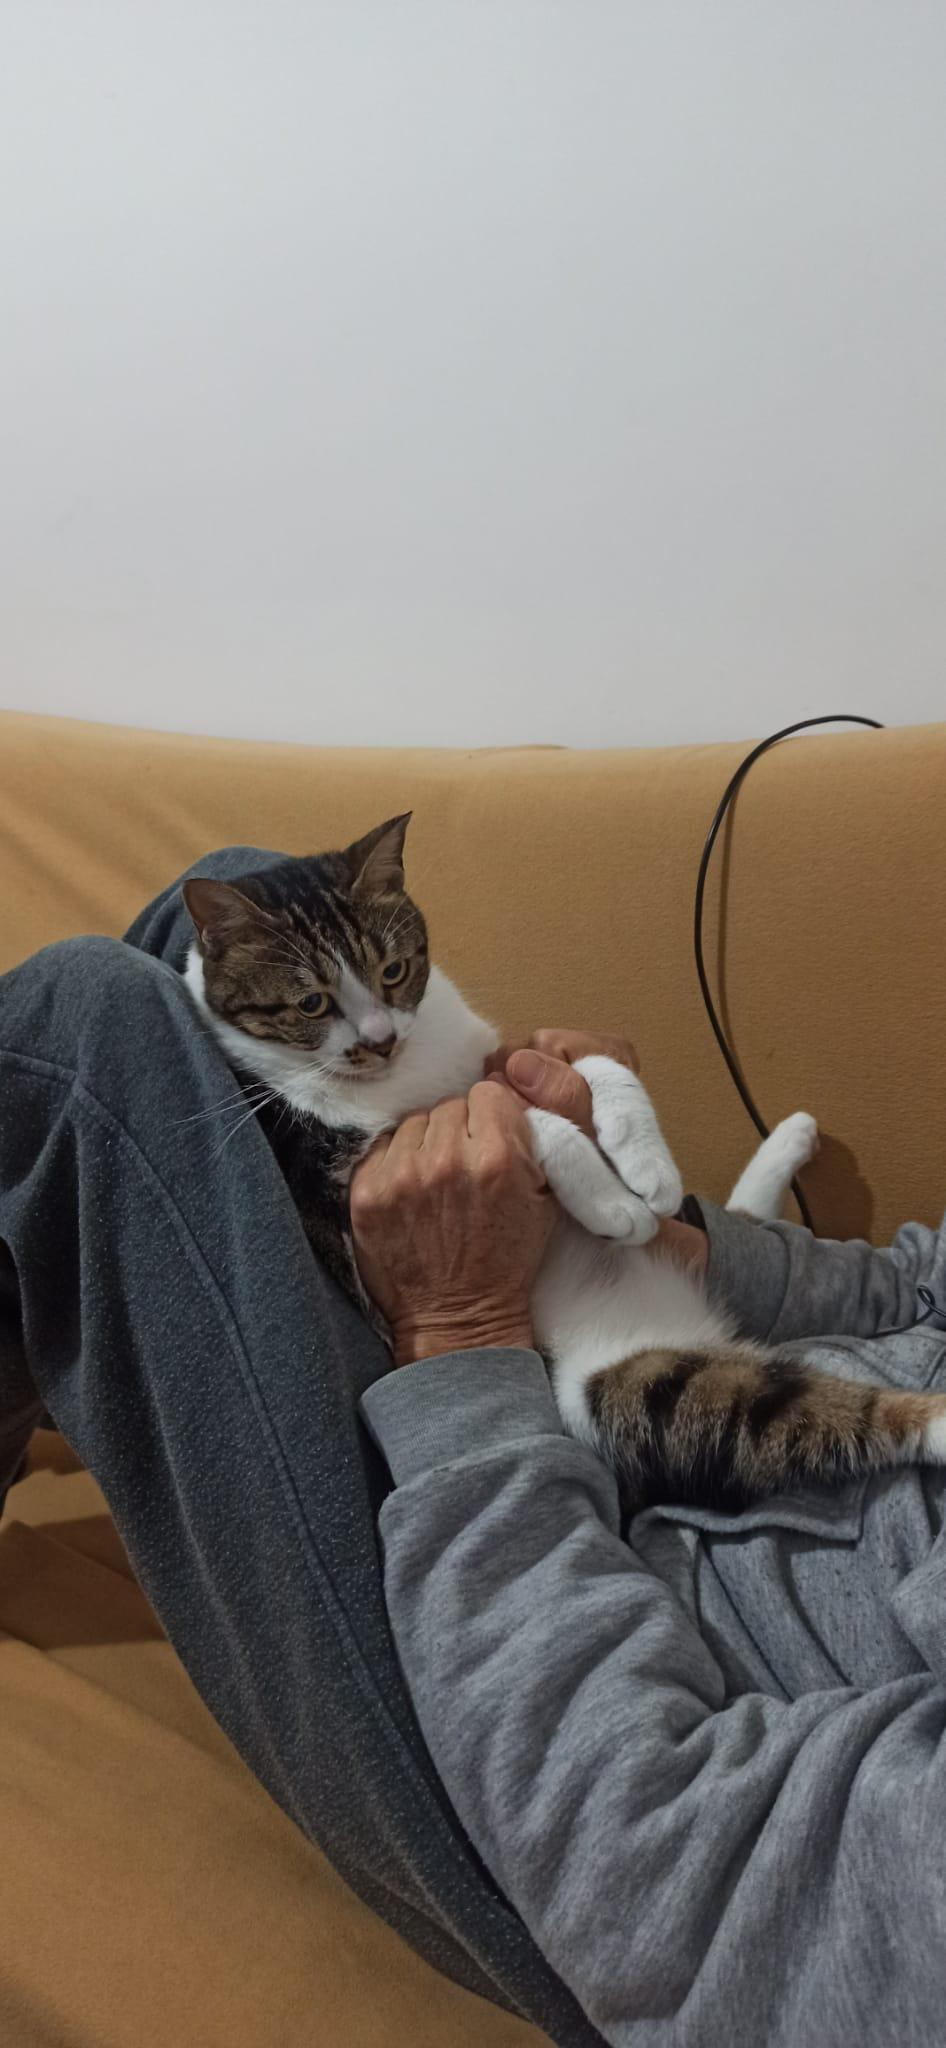kedo: (188, 798, 434, 1080)
